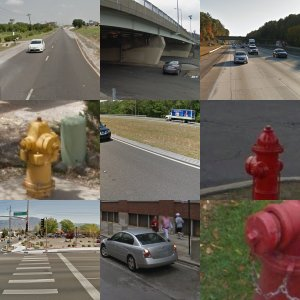公車: (99, 8, 170, 90), (100, 208, 181, 251), (230, 134, 300, 171)
汽車: (104, 262, 191, 299), (243, 37, 277, 64), (63, 265, 99, 289), (70, 171, 100, 199), (234, 229, 263, 245), (8, 258, 32, 276), (26, 156, 43, 176), (200, 237, 218, 255)
行人穿越道: (232, 179, 297, 199)
